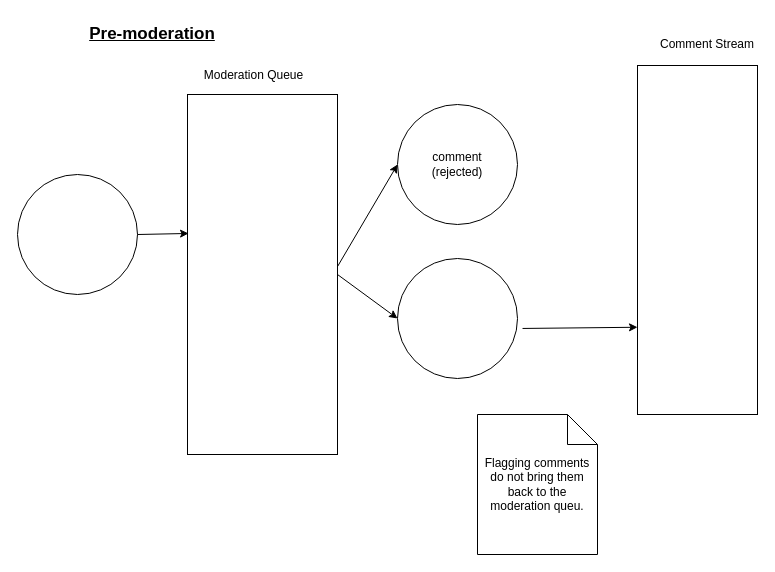
The diagram is 775 pixels wide and 572 high, and some of its shapes have lost their labels. The shapes that lost their labels are listed below. From the top down, each one's box as (x1, y1, x2, y2) in pixels, then its label:
(16, 174, 138, 294): comment (new)
(396, 258, 518, 378): comment (approved)
